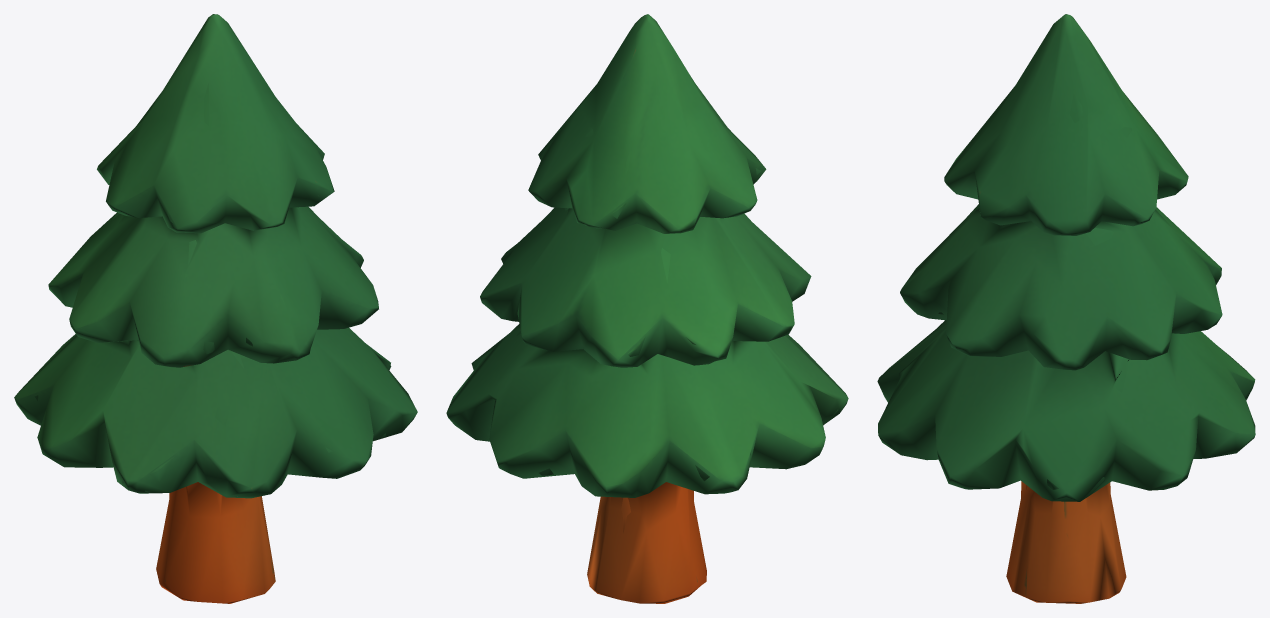
File: tree-pine.glb
The picture shows the model from 3 angles, left to right: view 1: azimuth 30°, elevation 25°; view 2: azimuth 150°, elevation 25°; view 3: azimuth 270°, elevation 25°; orthographic projection.
Visible parts, largest first — view 1: tree-pine; view 2: tree-pine; view 3: tree-pine.
Part boxes in pixels (x1,y1,x2,y2): tree-pine: [14, 14, 417, 603]; tree-pine: [446, 14, 848, 603]; tree-pine: [877, 14, 1255, 603].
Size of the model in its own units: 0.6501 by 1 by 0.6061.
1 material, 1 textured.
